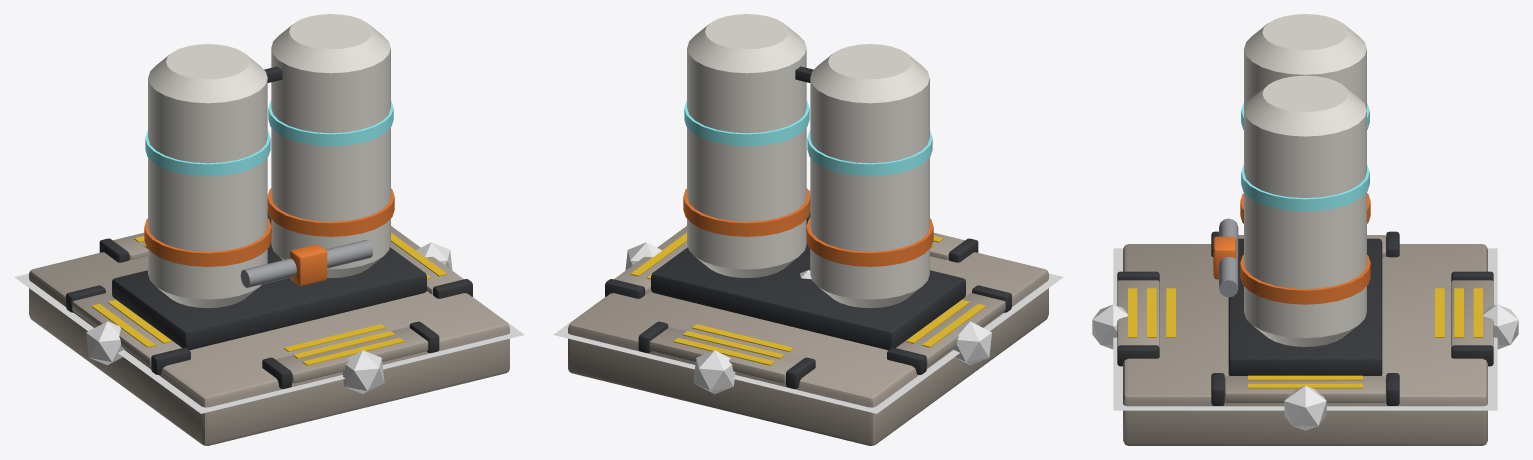
File: oxygen_tank_1x1.gltf
3 views of the same model, side by side, from view 1: azimuth 30°, elevation 25°; view 2: azimuth 150°, elevation 25°; view 3: azimuth 270°, elevation 25° (orthographic). The views are drawn at different scales.
Visible parts, largest first — view 1: OxygenTank, %V%AnchorOut.003+, %V%AnchorOut.001+, %P%Footprint, %V%AnchorOut+, %P%AnchorOut.003, %P%AnchorOut.001, %V%AnchorOut.002+, %P%AnchorOut; view 2: OxygenTank, %V%AnchorOut.002+, %V%AnchorOut.001+, %P%Footprint, %V%AnchorOut+, %P%AnchorOut.002, %P%AnchorOut.001, %V%AnchorOut.003+, %P%AnchorOut; view 3: OxygenTank, %V%AnchorOut+, %V%AnchorOut.002+, %V%AnchorOut.003+, %P%Footprint, %P%AnchorOut, %P%AnchorOut.002, %P%AnchorOut.003, %V%AnchorOut.001+.
Boxes of the visible parts, x1=… form: OxygenTank: x1=29, y1=14, x2=509, y2=445; %V%AnchorOut.003+: x1=262, y1=321, x2=439, y2=388; %V%AnchorOut.001+: x1=66, y1=285, x2=190, y2=374; %P%Footprint: x1=14, y1=273, x2=524, y2=413; %V%AnchorOut+: x1=390, y1=226, x2=472, y2=298; %P%AnchorOut.003: x1=342, y1=350, x2=384, y2=393; %P%AnchorOut.001: x1=86, y1=321, x2=124, y2=365; %V%AnchorOut.002+: x1=99, y1=211, x2=271, y2=262; %P%AnchorOut: x1=416, y1=242, x2=452, y2=270; OxygenTank: x1=568, y1=14, x2=1048, y2=445; %V%AnchorOut.002+: x1=638, y1=321, x2=815, y2=388; %V%AnchorOut.001+: x1=887, y1=285, x2=1011, y2=374; %P%Footprint: x1=553, y1=273, x2=1063, y2=413; %V%AnchorOut+: x1=605, y1=226, x2=687, y2=298; %P%AnchorOut.002: x1=693, y1=350, x2=735, y2=393; %P%AnchorOut.001: x1=953, y1=321, x2=991, y2=365; %V%AnchorOut.003+: x1=806, y1=211, x2=978, y2=262; %P%AnchorOut: x1=625, y1=242, x2=661, y2=270; OxygenTank: x1=1123, y1=14, x2=1487, y2=445; %V%AnchorOut+: x1=1211, y1=373, x2=1399, y2=405; %V%AnchorOut.002+: x1=1435, y1=271, x2=1493, y2=366; %V%AnchorOut.003+: x1=1117, y1=271, x2=1175, y2=366; %P%Footprint: x1=1113, y1=248, x2=1497, y2=410; %P%AnchorOut: x1=1284, y1=385, x2=1326, y2=430; %P%AnchorOut.002: x1=1483, y1=304, x2=1518, y2=349; %P%AnchorOut.003: x1=1092, y1=304, x2=1127, y2=349; %V%AnchorOut.001+: x1=1211, y1=231, x2=1399, y2=257.
Size of the model in its own units: 2.23 by 1.77 by 2.22.
